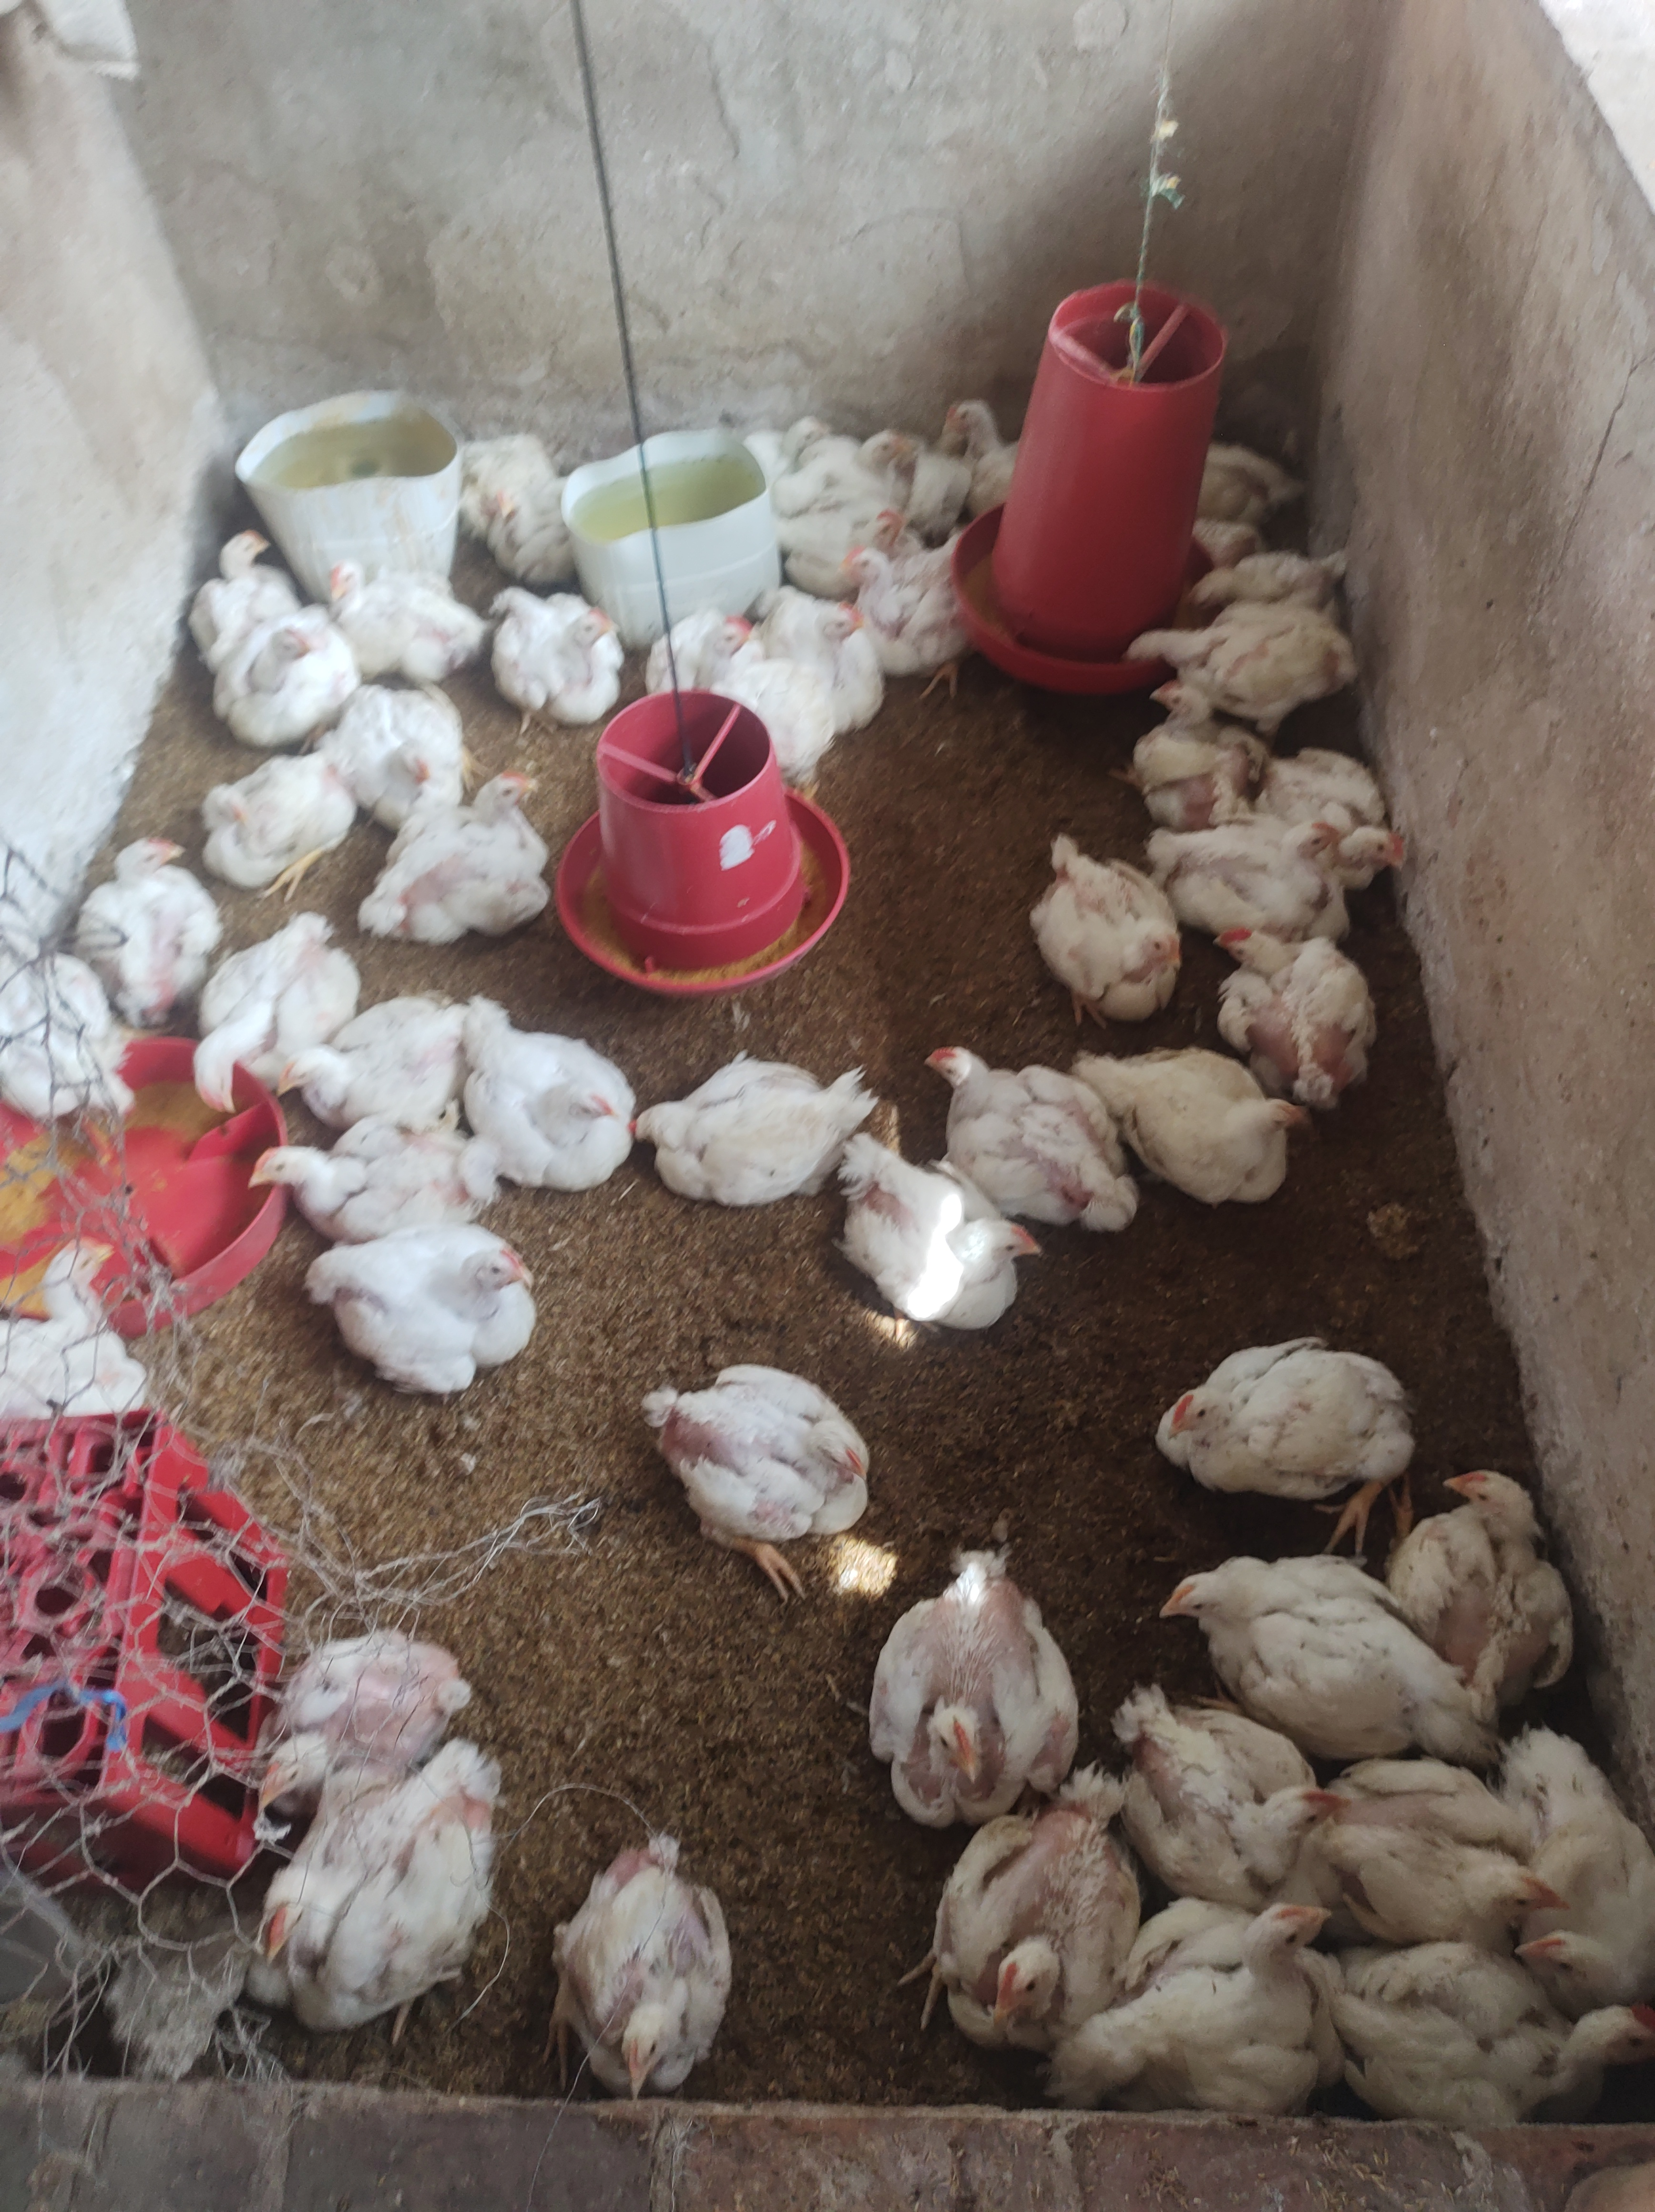Pollos: (240, 1716, 527, 2017), (1365, 1876, 1655, 2144), (833, 1534, 1080, 1835), (1278, 1702, 1540, 1937), (1048, 1654, 1311, 1887), (565, 1762, 754, 2082), (1160, 1309, 1452, 1511), (1085, 1894, 1339, 2125), (1156, 1546, 1450, 1739), (643, 1344, 876, 1586), (918, 1019, 1127, 1268), (624, 1035, 881, 1226), (928, 1774, 1107, 2049), (1499, 1727, 1655, 2021), (428, 965, 631, 1188), (840, 1125, 1043, 1343), (256, 1596, 454, 1819), (1090, 1038, 1321, 1217), (1027, 795, 1186, 1040), (322, 1226, 555, 1389), (1424, 1464, 1589, 1690), (1133, 596, 1379, 748), (1206, 923, 1403, 1104), (0, 1223, 136, 1473), (382, 760, 567, 943), (245, 1113, 475, 1252), (184, 913, 330, 1123), (821, 530, 1014, 668), (87, 821, 216, 1019), (165, 602, 370, 723), (0, 934, 120, 1130), (283, 986, 455, 1122), (1163, 807, 1337, 941), (487, 593, 650, 734), (309, 685, 471, 819), (1125, 673, 1262, 824), (329, 551, 475, 680), (1191, 515, 1380, 612), (772, 583, 894, 734), (191, 772, 353, 885), (174, 527, 299, 643), (946, 386, 1038, 536), (650, 593, 768, 704), (480, 478, 600, 581), (431, 398, 508, 534), (753, 395, 826, 503), (1337, 810, 1429, 892), (1200, 503, 1269, 551), (867, 430, 909, 476), (861, 508, 916, 541)
